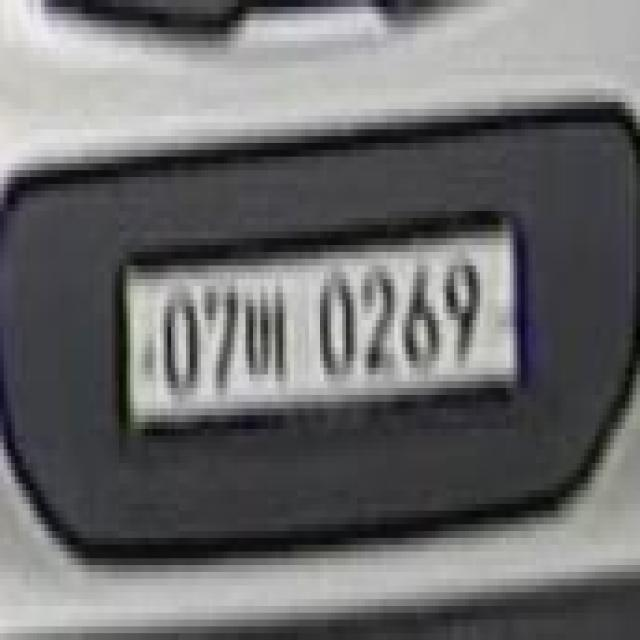illegal_plate: (116, 210, 528, 450)
